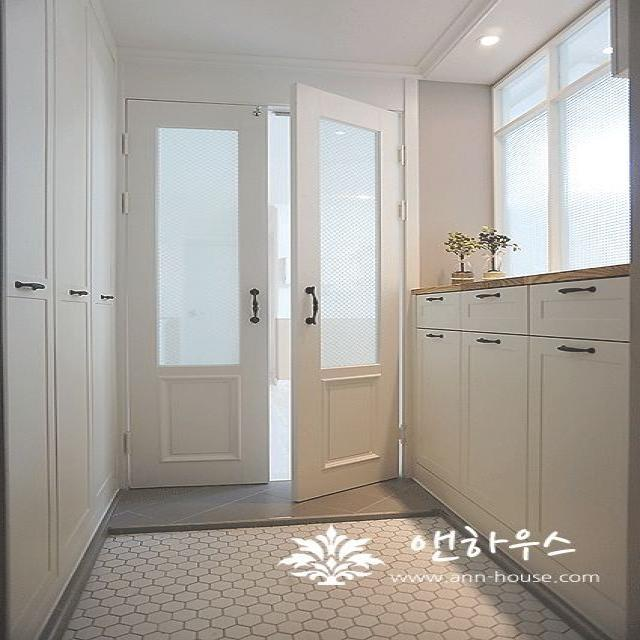door: (122, 97, 271, 488), (289, 82, 404, 502)
obstacle: (405, 271, 634, 639)
